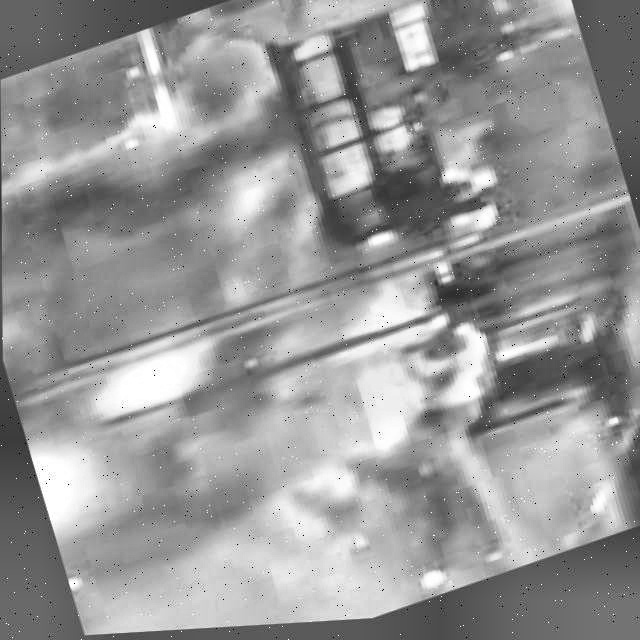Smoke: (0, 55, 479, 640), (1, 71, 331, 382)
